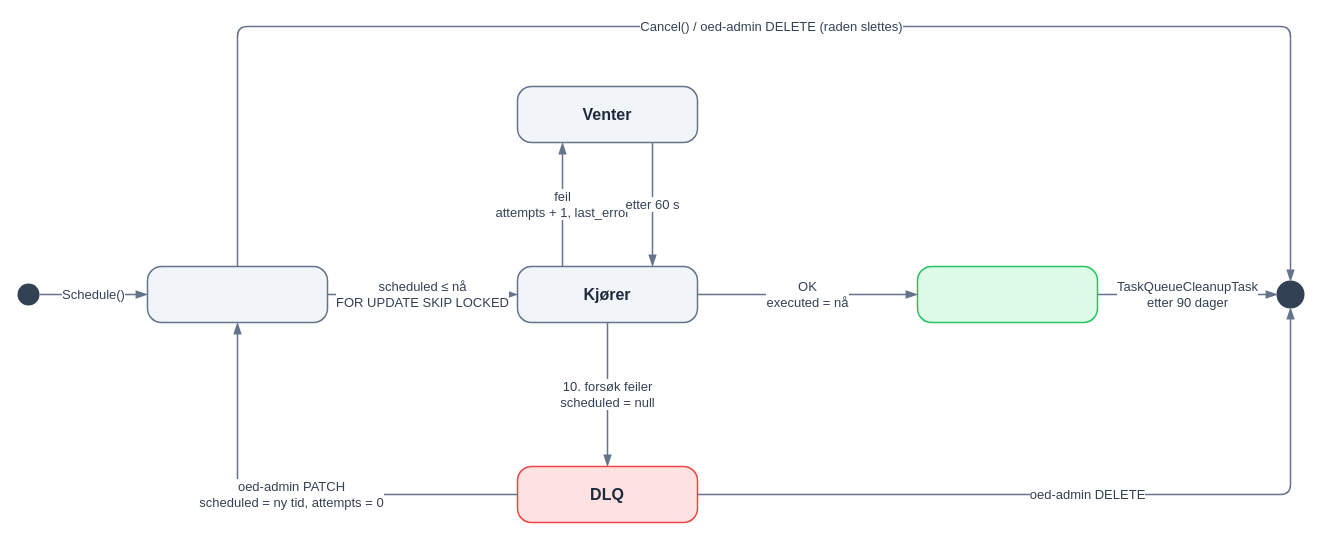
The diagram is 1321 pixels wide and 541 high, and some of its shapes have lost their labels. Here are the shapes that lost their labels. From the top down, the centre of each, then its label:
At point 237,294: "Planlagt".
At point 1007,294: "Utført".
